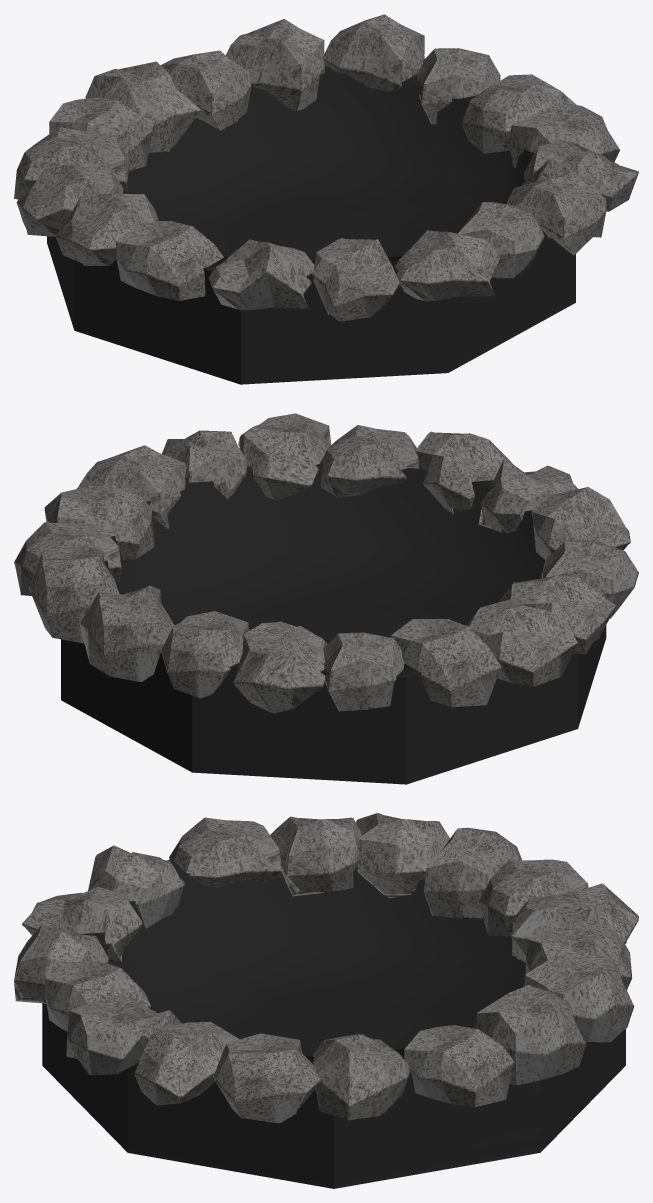
File: The geysir with textures.fbx
3 renders of one model, top to bottom at view 1: azimuth 30°, elevation 25°; view 2: azimuth 150°, elevation 25°; view 3: azimuth 270°, elevation 25°, orthographic. The views are drawn at different scales.
Visible parts, largest first — view 1: pCube40; view 2: pCube40; view 3: pCube40.
Boxes of the visible parts, bbox=[...] form: pCube40: bbox=[14, 14, 638, 384]; pCube40: bbox=[14, 413, 638, 784]; pCube40: bbox=[14, 813, 638, 1188].
Size of the model in its own units: 210 by 53.73 by 201.
